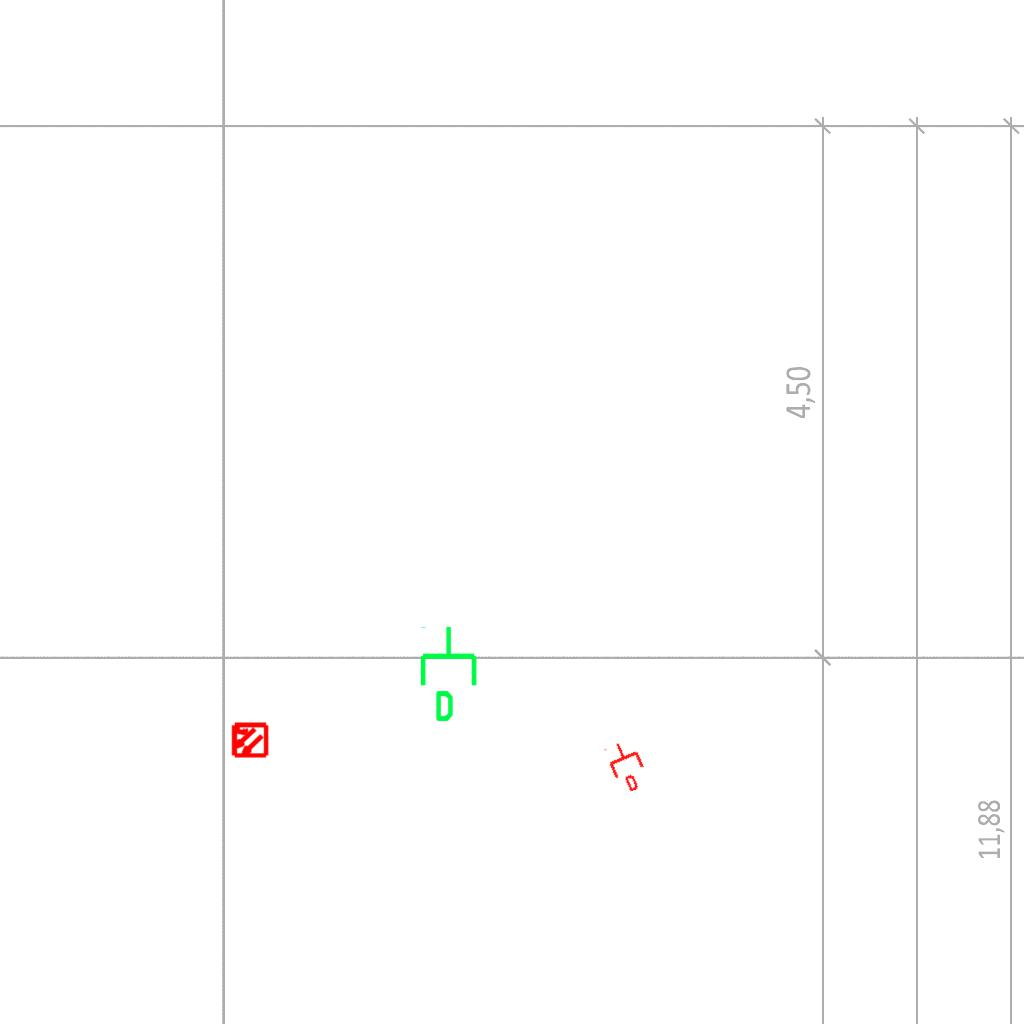Datenanschluss_einfach: (416, 624, 485, 724), (601, 736, 653, 796)
OT_Multisensormelder_(Kombination_RMO_WMD): (221, 712, 277, 768)
